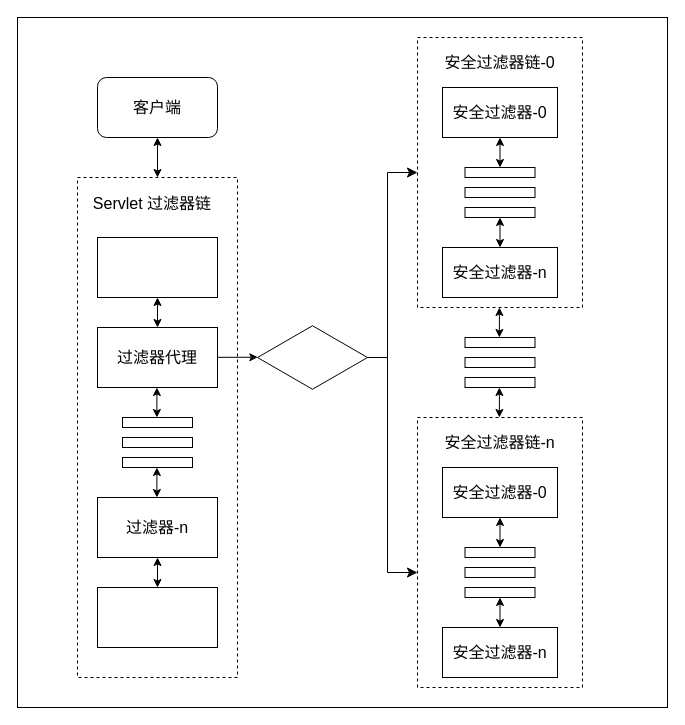
This 685x725 diagram has some shape labels left out. The centre of each missing label's shape, as x and y in pixels:
"Servlet" belongs at point 157,617.
"特征匹配" belongs at point 312,357.
"过滤器-0" belongs at point 157,267.
